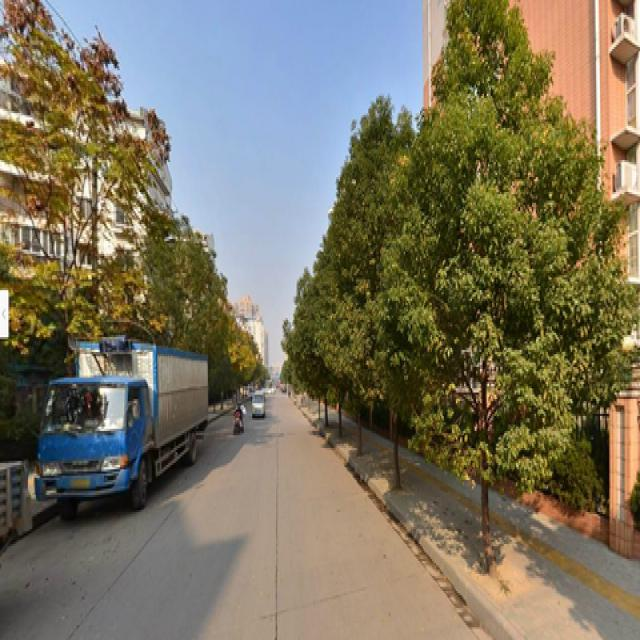cinn: (420, 21, 607, 555)
